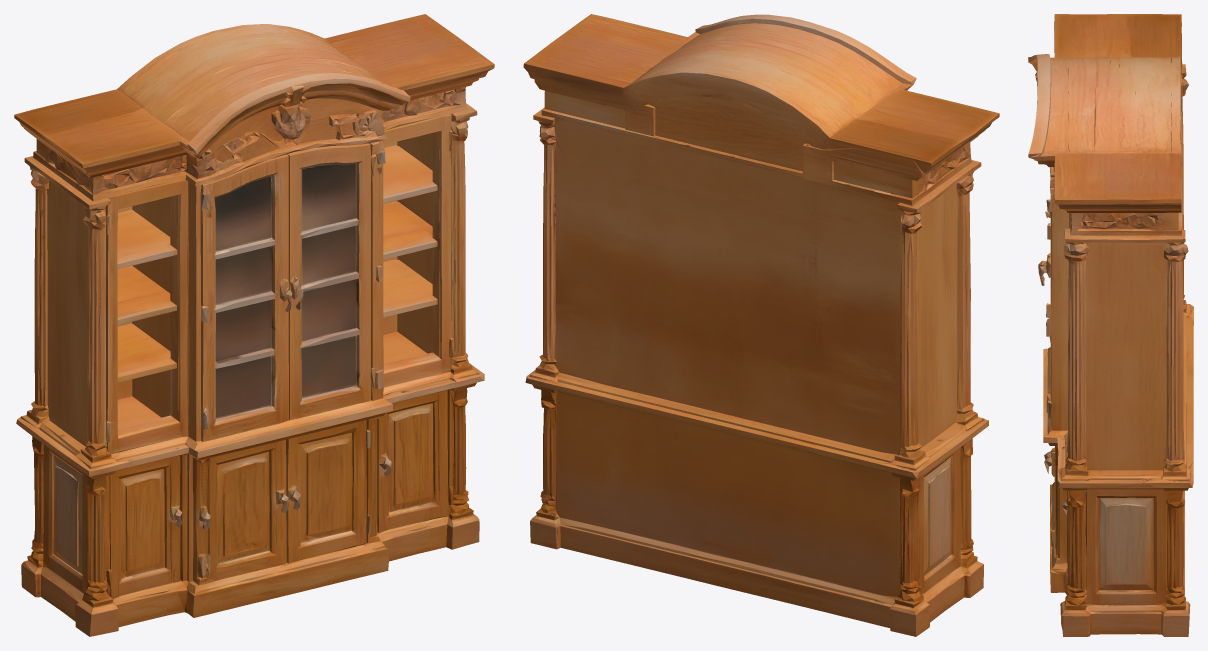
The model's file is 餐边柜_已核对.glb.
The picture shows the model from 3 angles, left to right: view 1: azimuth 30°, elevation 25°; view 2: azimuth 150°, elevation 25°; view 3: azimuth 270°, elevation 25°; orthographic projection. The views are drawn at different scales.
Parts seen in each view (by area): view 1: model; view 2: model; view 3: model.
Part boxes in pixels (bbox=[...]): model: bbox=[14, 14, 494, 636]; model: bbox=[523, 14, 999, 636]; model: bbox=[1028, 14, 1193, 636].
Bounding box in the file's own units: 1.59 × 1.9 × 0.5986.
Materials: 1 (1 with a texture image).
